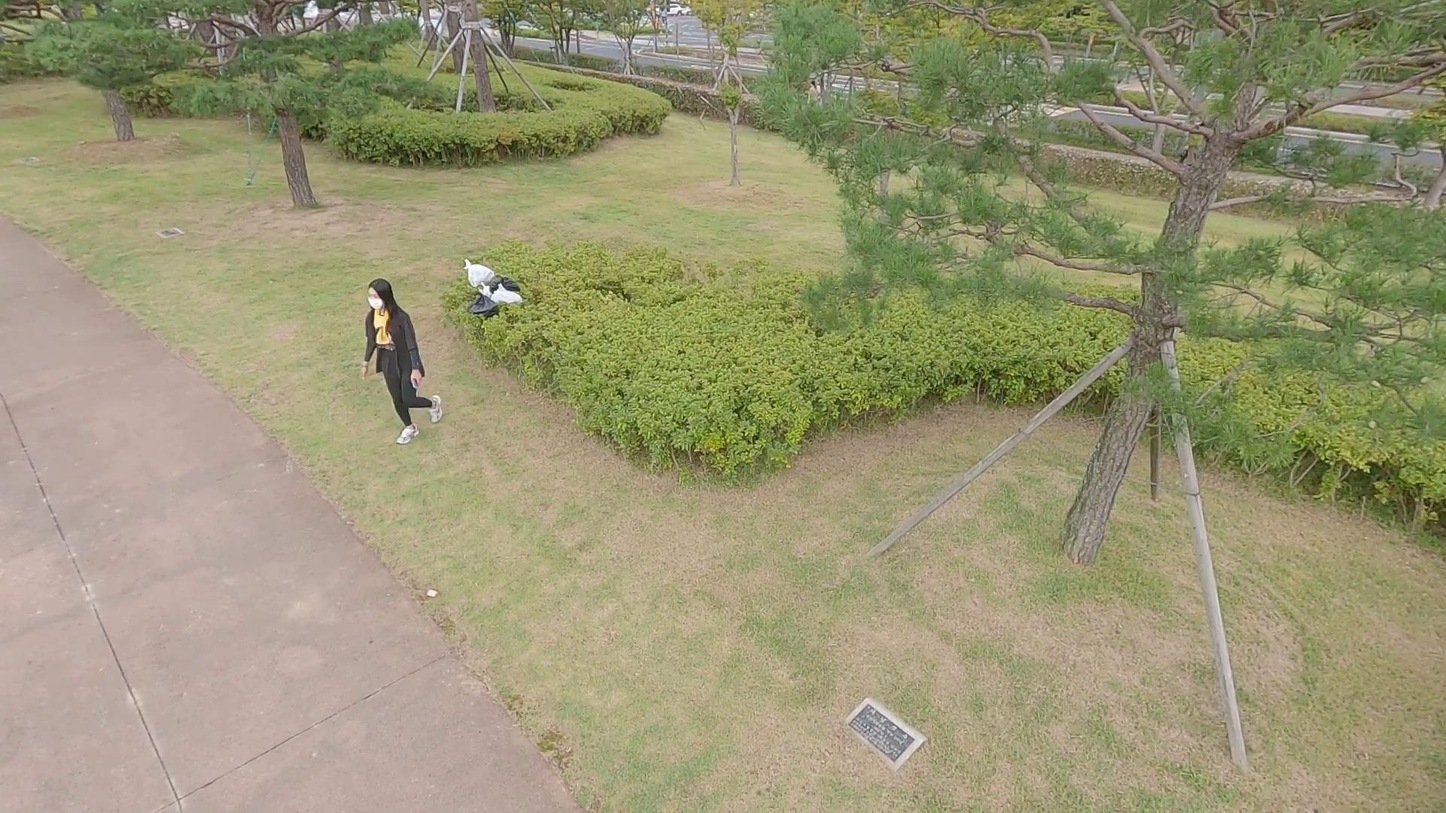person: (361, 277, 446, 446)
trash: (480, 280, 523, 306), (466, 259, 495, 287), (471, 296, 501, 322), (491, 271, 519, 293)
